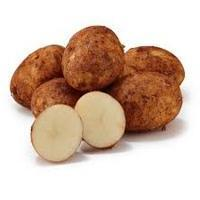biodegradable: (60, 25, 125, 92), (113, 70, 183, 132), (9, 43, 66, 108), (29, 103, 84, 163), (74, 92, 127, 150)
